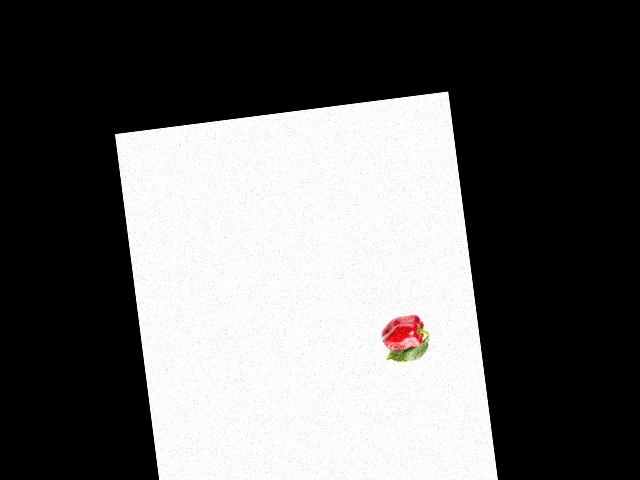bell_pepper: (377, 308, 430, 354)
